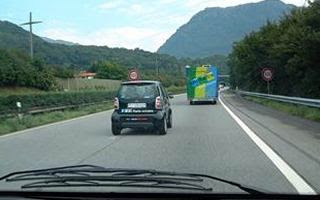car: (110, 77, 167, 137)
